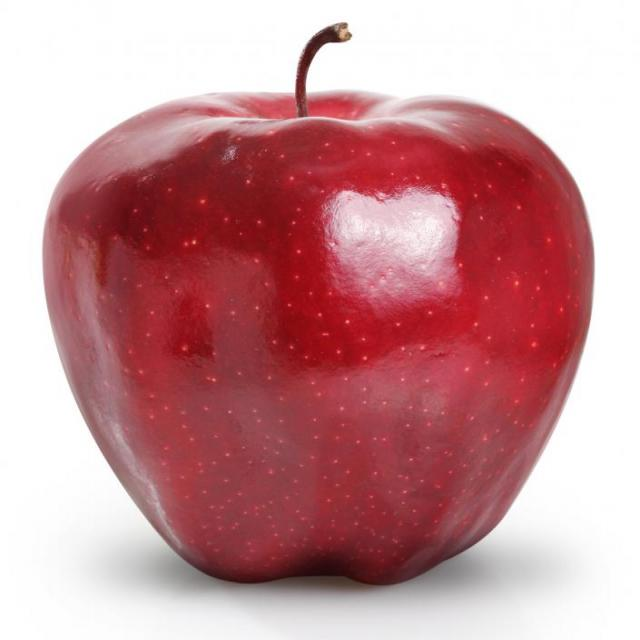Apple: (43, 12, 597, 589)
